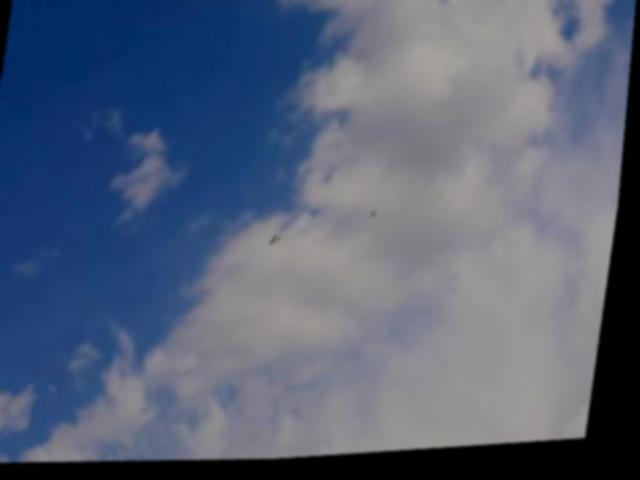uav: (272, 236, 288, 251)
